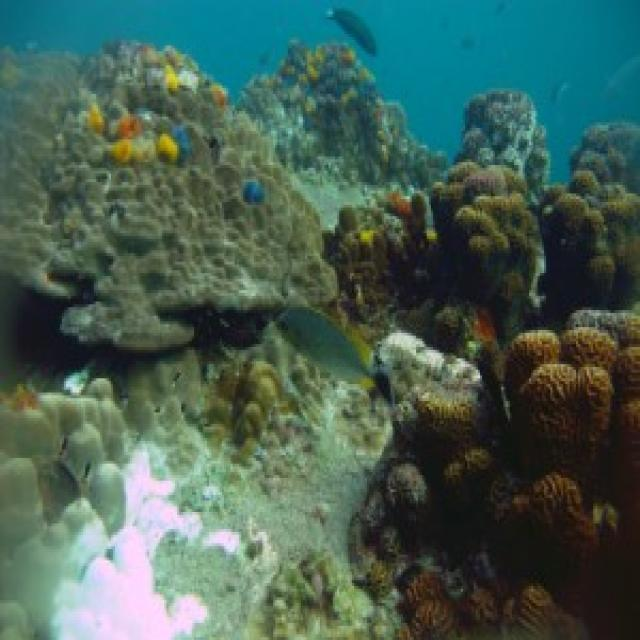Bleached: (61, 450, 204, 638)
Healthy: (1, 41, 336, 351), (362, 314, 639, 638), (1, 382, 127, 630), (432, 163, 541, 334), (545, 194, 613, 320), (325, 223, 394, 317), (605, 197, 639, 305)
